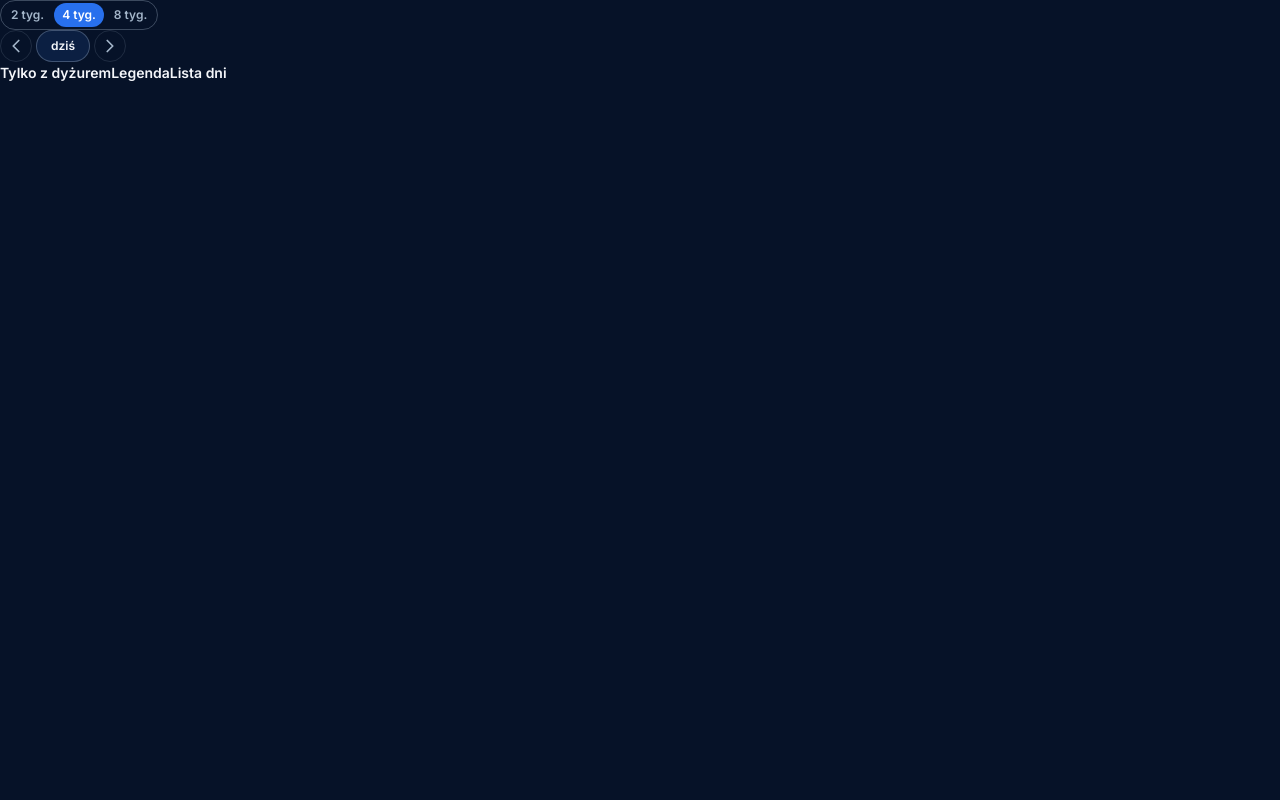
MatrixControls › opens the legend with the availability marks only where availability is shown
Click the button "Legenda".
click(140, 74)  # box [111,62,170,86]
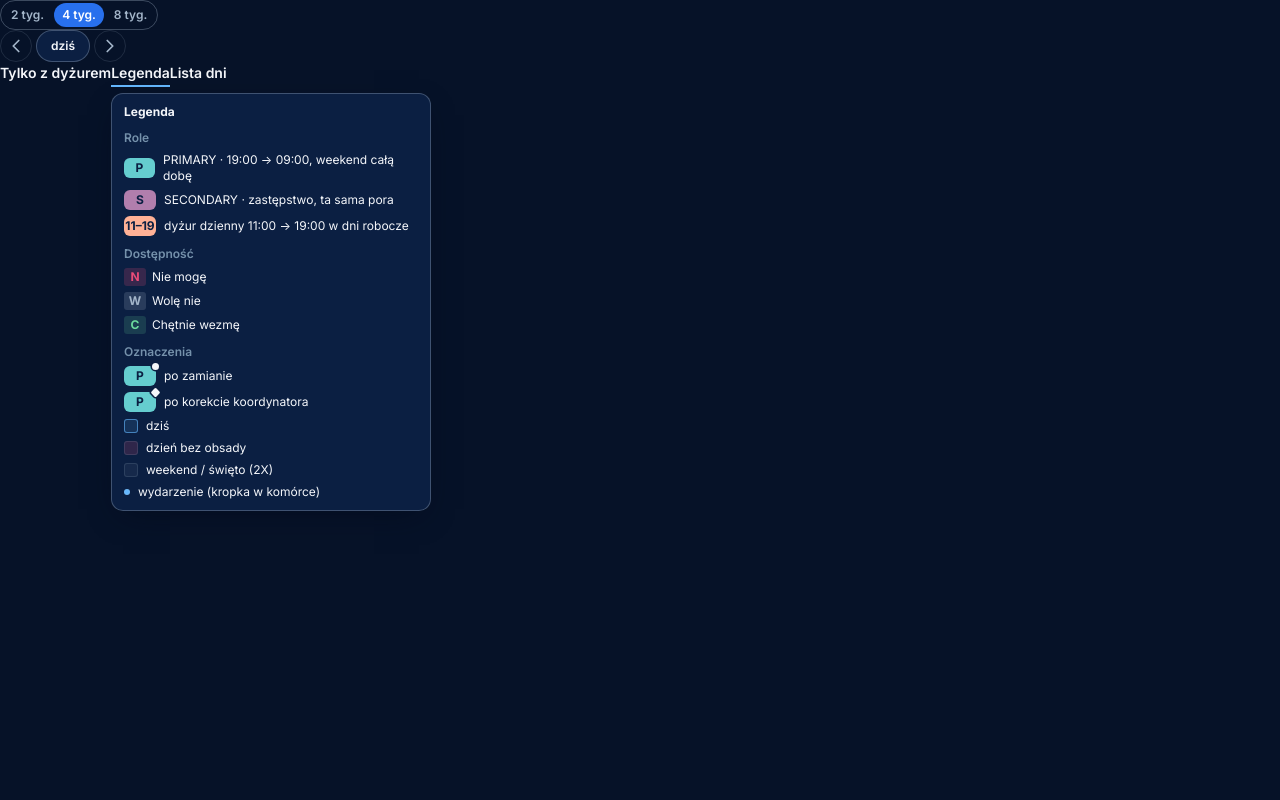
Expected: the text "Dostępność" is shown, [124,246,194,261]
Expected: the text "P po zamianie" is shown, [124,366,232,386]
